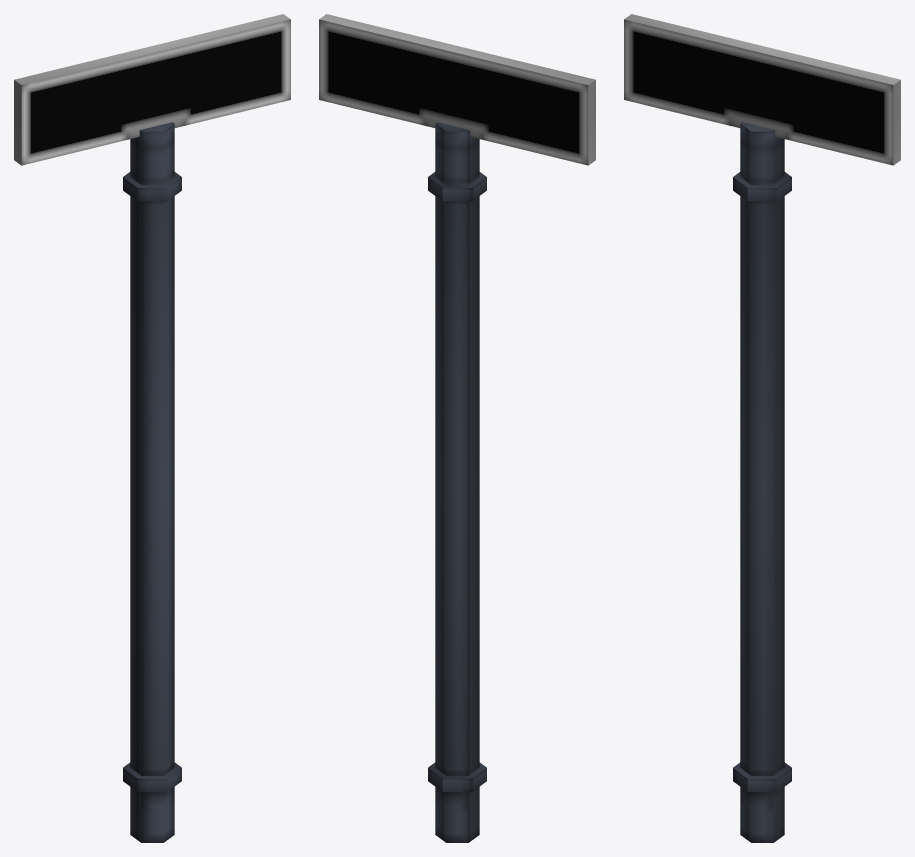
Rendered from StreetSign_Single.fbx.
3 renders of one model, left to right at view 1: azimuth 30°, elevation 25°; view 2: azimuth 150°, elevation 25°; view 3: azimuth 330°, elevation 25°, orthographic.
Parts seen in each view (by area): view 1: StreetSign_Single; view 2: StreetSign_Single; view 3: StreetSign_Single.
Boxes of the visible parts, bbox=[...] form: StreetSign_Single: bbox=[14, 14, 290, 842]; StreetSign_Single: bbox=[319, 14, 595, 842]; StreetSign_Single: bbox=[624, 14, 900, 842].
Bounding box in the file's own units: 10.5 × 29.25 × 2.
